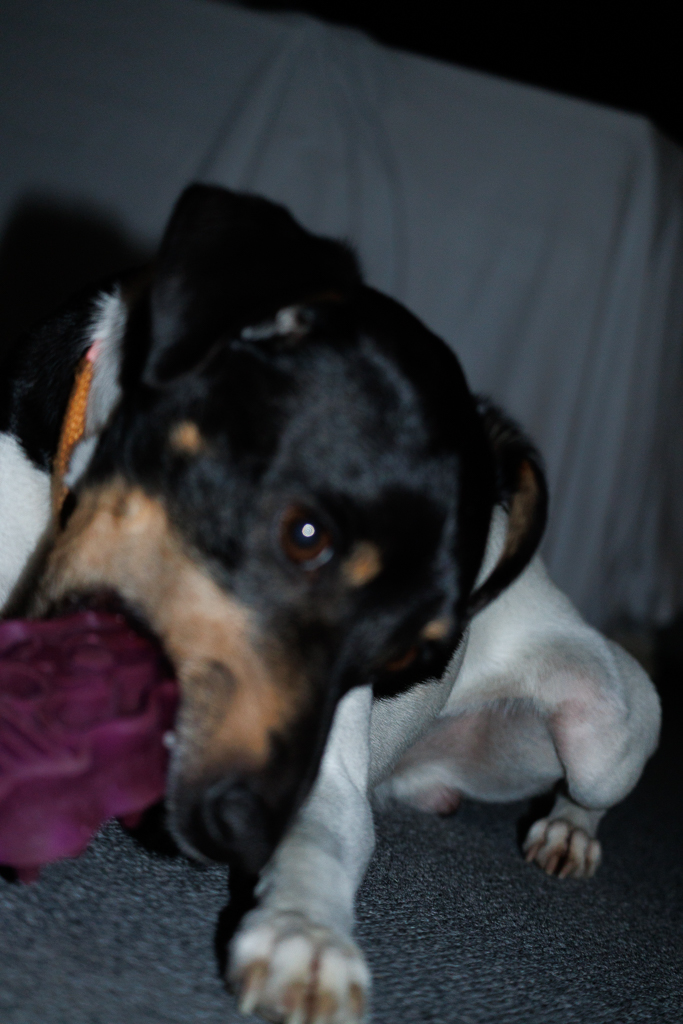Dog: (0, 173, 670, 1024)
